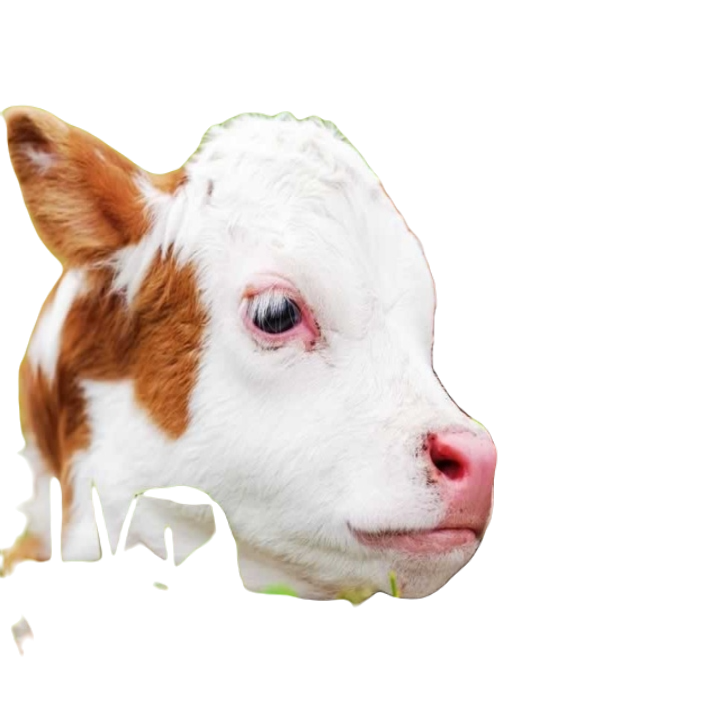Cow: (0, 101, 506, 630)
